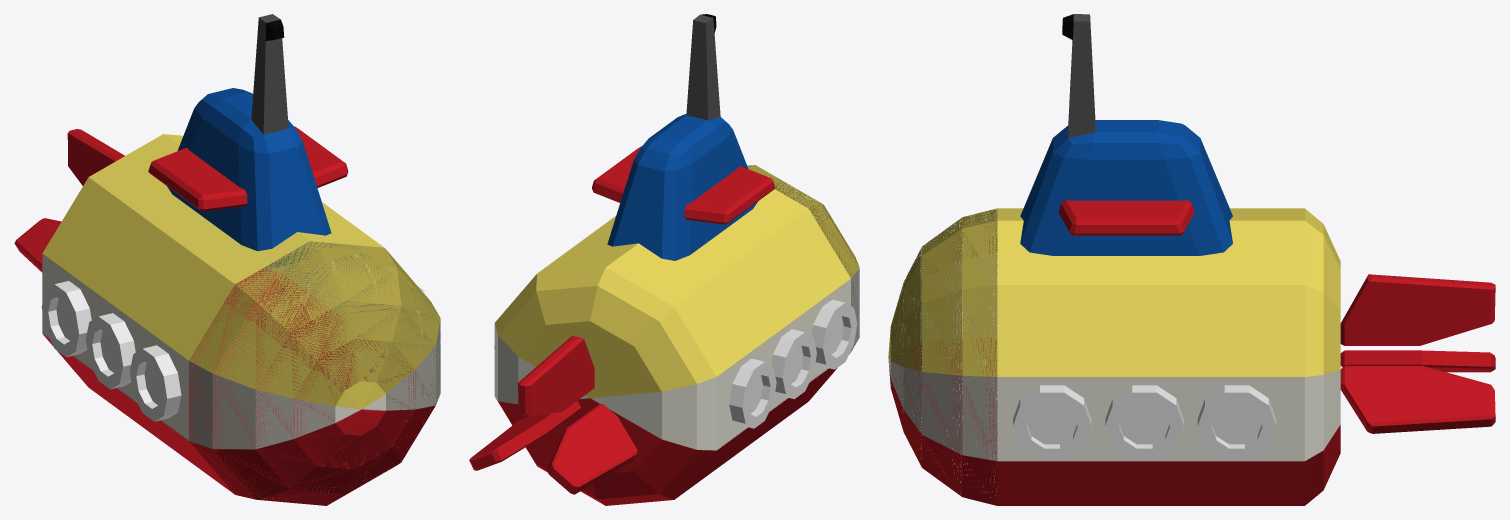
Rendered from submarine.fbx.
The picture shows the model from 3 angles, left to right: view 1: azimuth 30°, elevation 25°; view 2: azimuth 150°, elevation 25°; view 3: azimuth 270°, elevation 25°; orthographic projection. The views are drawn at different scales.
Parts seen in each view (by area): view 1: submarine, top fin, window frames, top side fins, back fins, windows; view 2: submarine, top fin, back fins, window frames, top side fins, windows; view 3: submarine, top fin, back fins, window frames, windows, top side fins.
Part boxes in pixels (box(x1,y1,x2,y2)): submarine: box(42, 134, 440, 505); top fin: box(167, 14, 332, 269); window frames: box(41, 254, 428, 421); top side fins: box(148, 126, 348, 211); back fins: box(14, 129, 124, 272); windows: box(56, 299, 160, 404); submarine: box(494, 165, 859, 505); top fin: box(607, 14, 757, 260); back fins: box(469, 336, 637, 494); window frames: box(494, 299, 857, 428); top side fins: box(592, 146, 775, 224); windows: box(748, 316, 843, 413); submarine: box(888, 208, 1340, 505); top fin: box(1020, 14, 1232, 255); back fins: box(1340, 274, 1495, 433); window frames: box(1013, 385, 1276, 460); windows: box(1027, 404, 1261, 444); top side fins: box(1058, 200, 1194, 235).
Bounding box in the file's own units: 3762 × 6024 × 6965.
7 materials, 2 textured.
